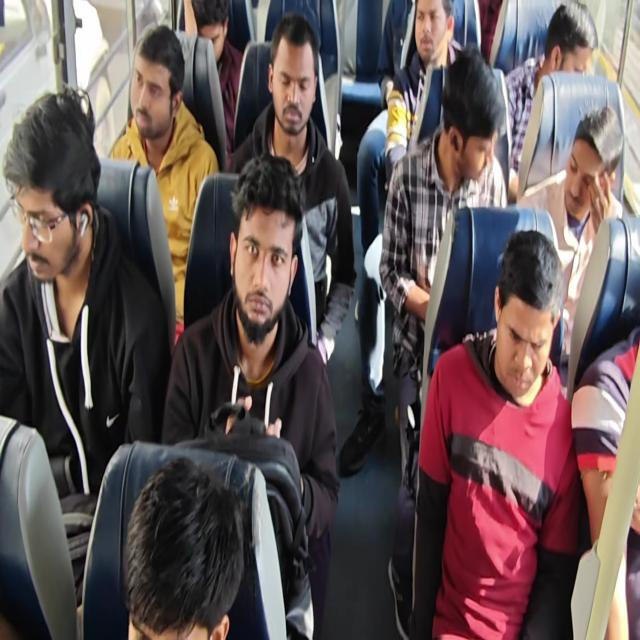person: (111, 452, 241, 627), (1, 77, 107, 291), (223, 150, 305, 352), (481, 224, 558, 411), (444, 42, 498, 198), (566, 92, 624, 229), (131, 18, 182, 148), (268, 12, 318, 140), (547, 1, 607, 80), (179, 0, 231, 51), (412, 2, 457, 58)
